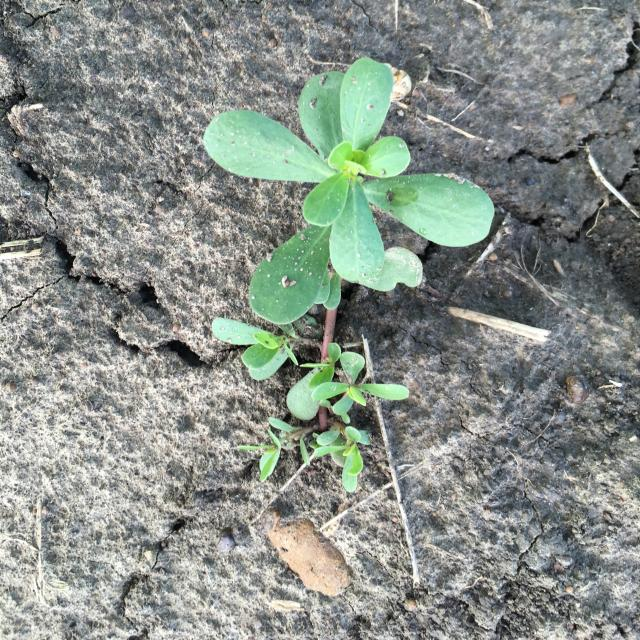Purslane: (203, 58, 494, 492)
